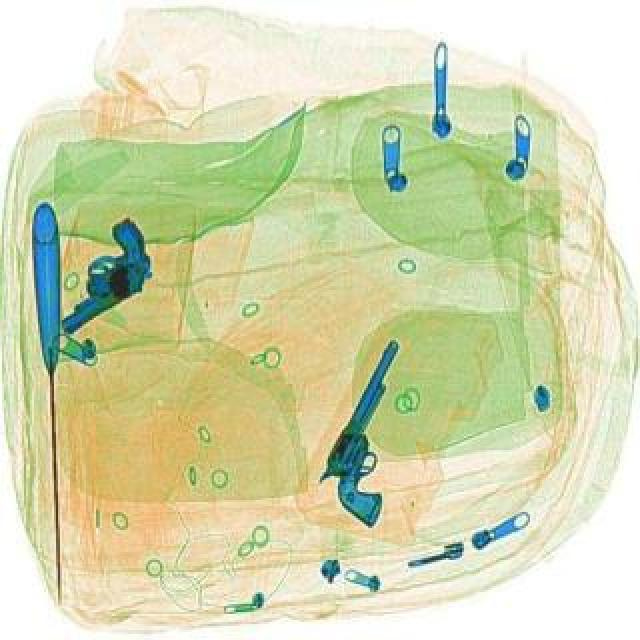gun: (302, 336, 462, 526), (22, 214, 170, 336)
knife: (28, 202, 72, 606)
